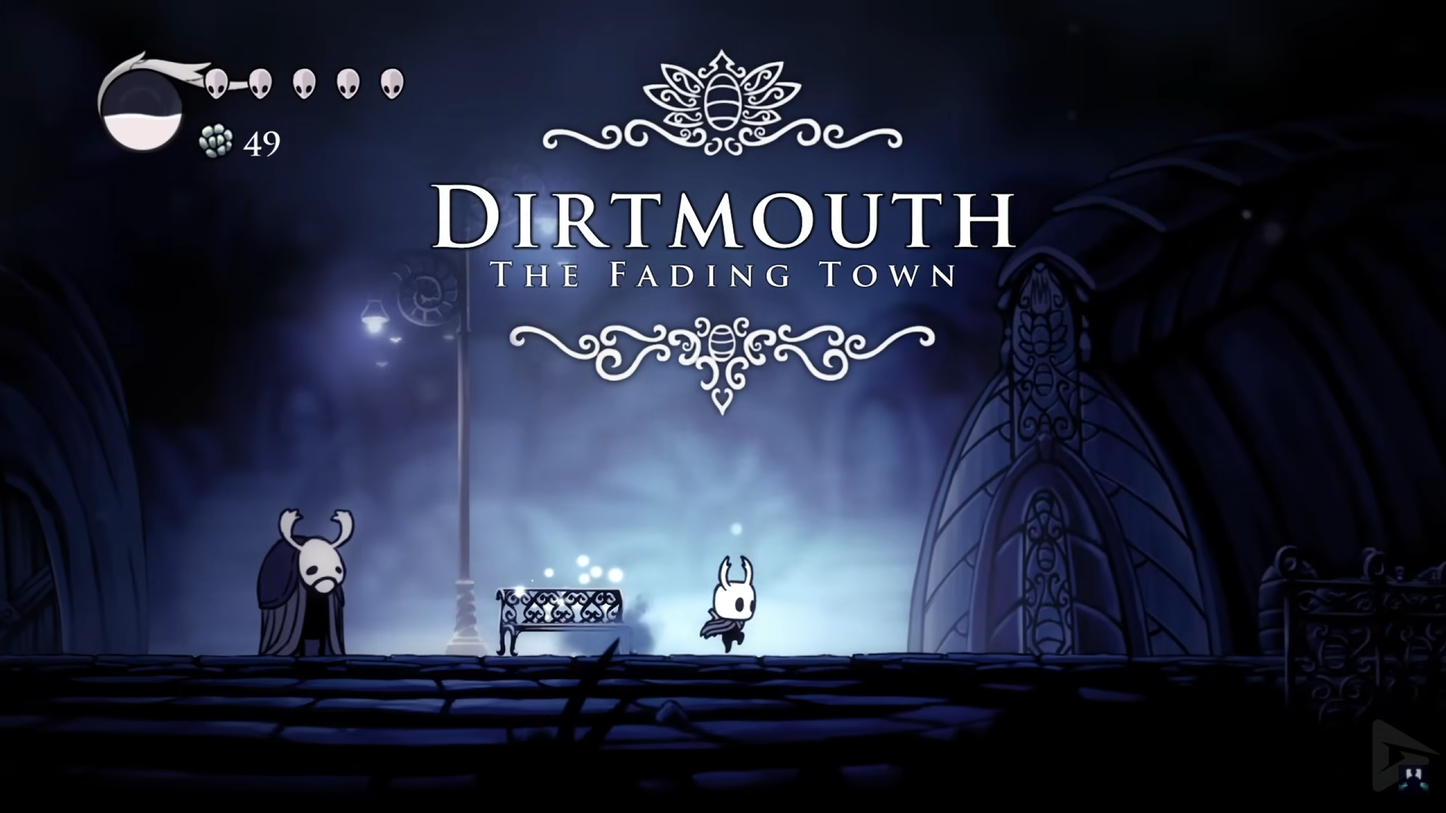HK: (700, 553, 762, 653)
